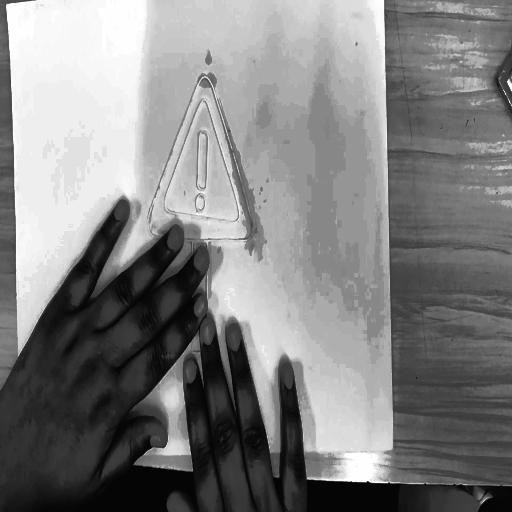bottom_right: (388, 438, 396, 457)
signboard: (130, 59, 270, 368)
top_left: (4, 4, 10, 14)
